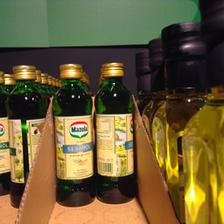Oel: (52, 63, 94, 207), (93, 62, 134, 202), (6, 64, 46, 207)
